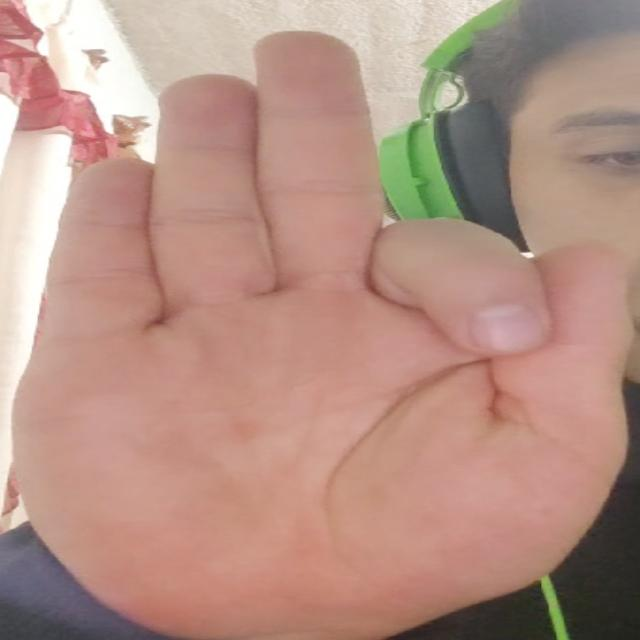F: (6, 24, 640, 629)
